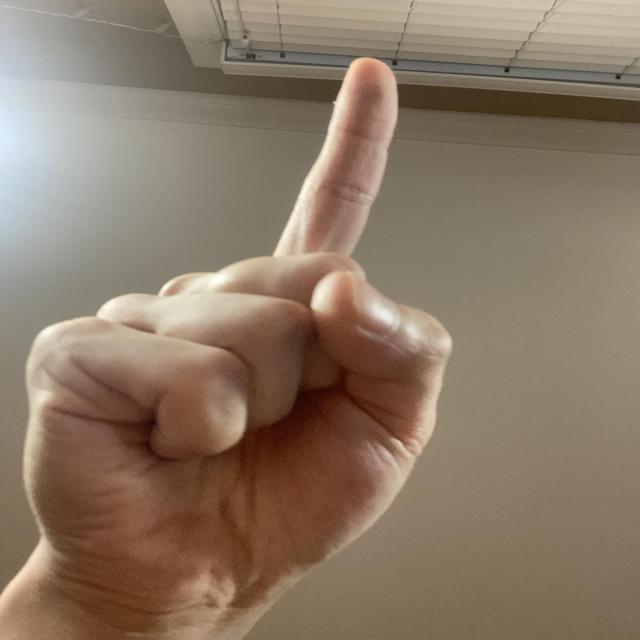Z: (14, 52, 468, 620)
